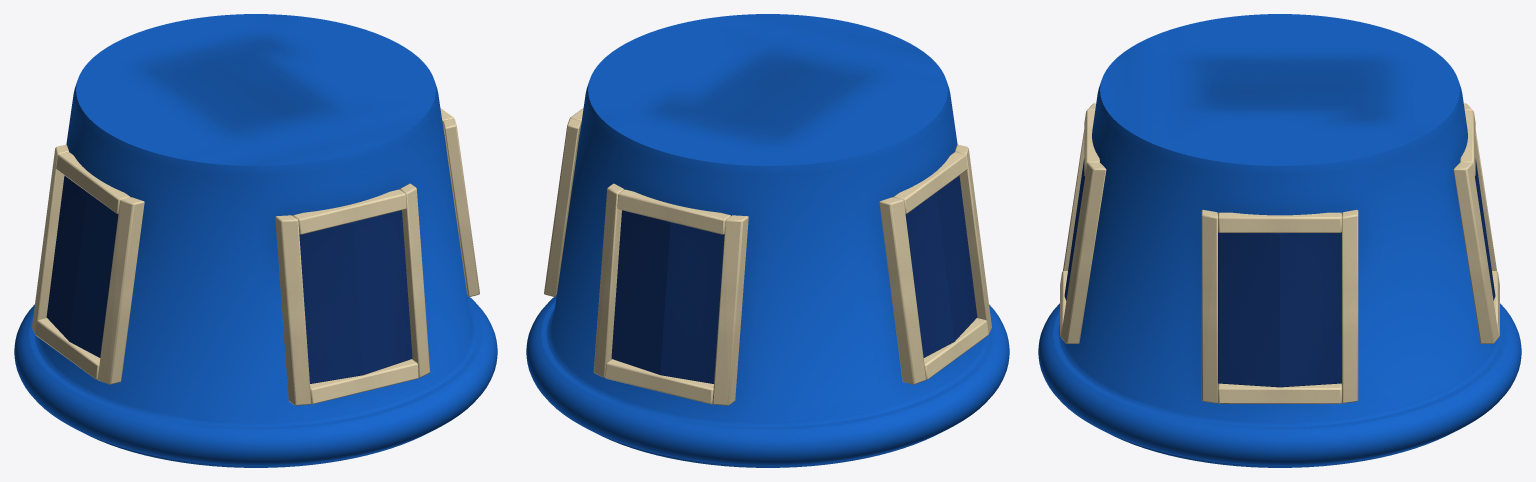
Rendered from 5-inverted-cup-5.fbx.
3 renders of one model, left to right at view 1: azimuth 30°, elevation 25°; view 2: azimuth 150°, elevation 25°; view 3: azimuth 270°, elevation 25°, orthographic.
Visible parts, largest first — view 1: inverted-cup-5; view 2: inverted-cup-5; view 3: inverted-cup-5.
Part boxes in pixels (x1,y1,x2,y2): inverted-cup-5: (14,14,497,467); inverted-cup-5: (526,14,1009,467); inverted-cup-5: (1038,14,1521,467).
Bounding box in the file's own units: 5240 × 3400 × 5240.
1 material, 1 textured.
